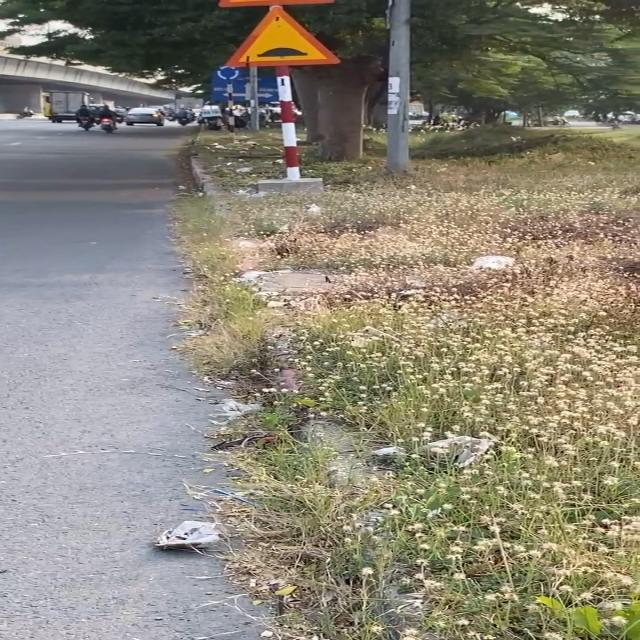221-duong-go-ghe: (224, 7, 346, 67)
303-noi-giao-nhau-chay-theo-vong-xuyen: (214, 64, 242, 82)
